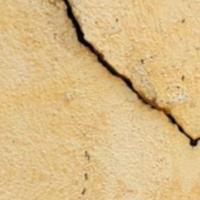crack: (57, 0, 199, 153)
